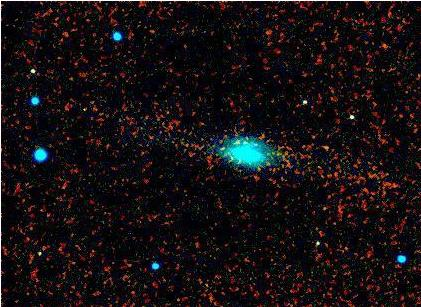star: (308, 131, 338, 161)
